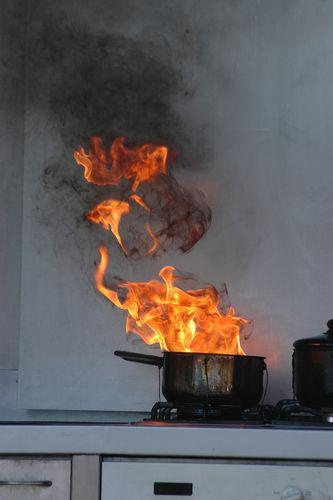fire: (74, 134, 248, 359)
